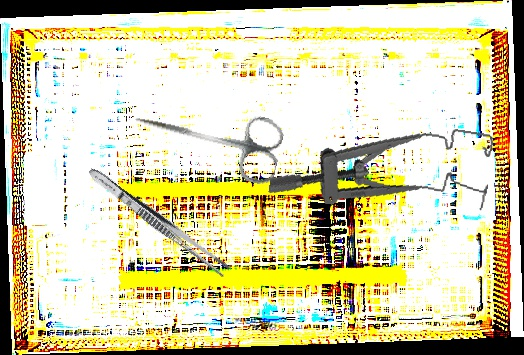Dressing Forceps: (84, 164, 233, 279)
Iris Scissors: (127, 89, 287, 187)
Speculum: (267, 101, 497, 229)
